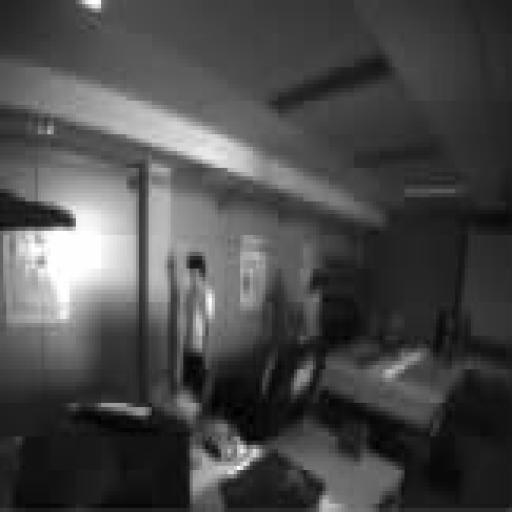human: (177, 252, 214, 402), (298, 269, 322, 344)
